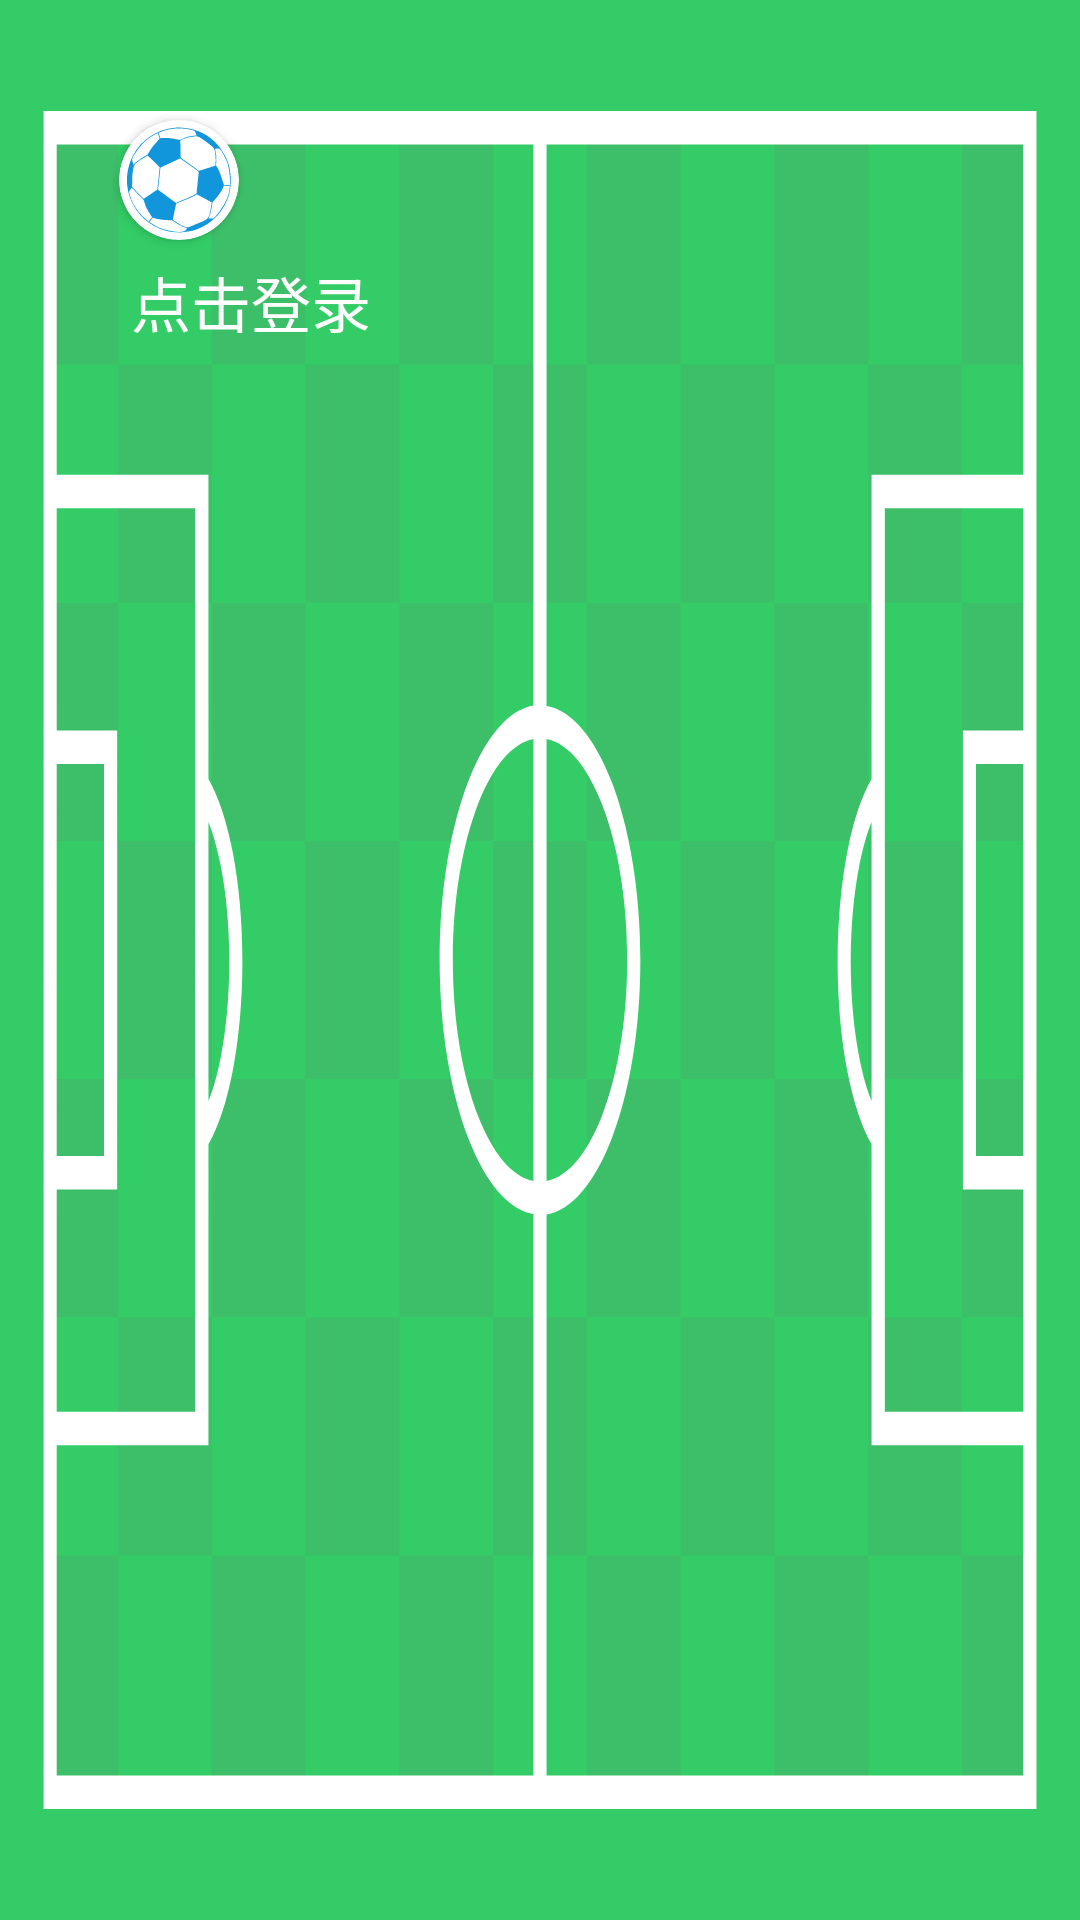

Named icons in this screenshot (1080×1920) and their centers, [x,y]:
soccer: [179,180]
